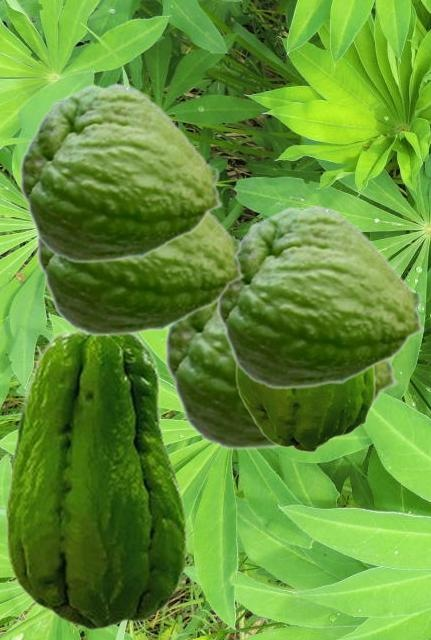sayote: (5, 326, 187, 630), (216, 204, 425, 389), (19, 82, 223, 263), (164, 306, 399, 450), (36, 211, 245, 336), (235, 365, 375, 452)
